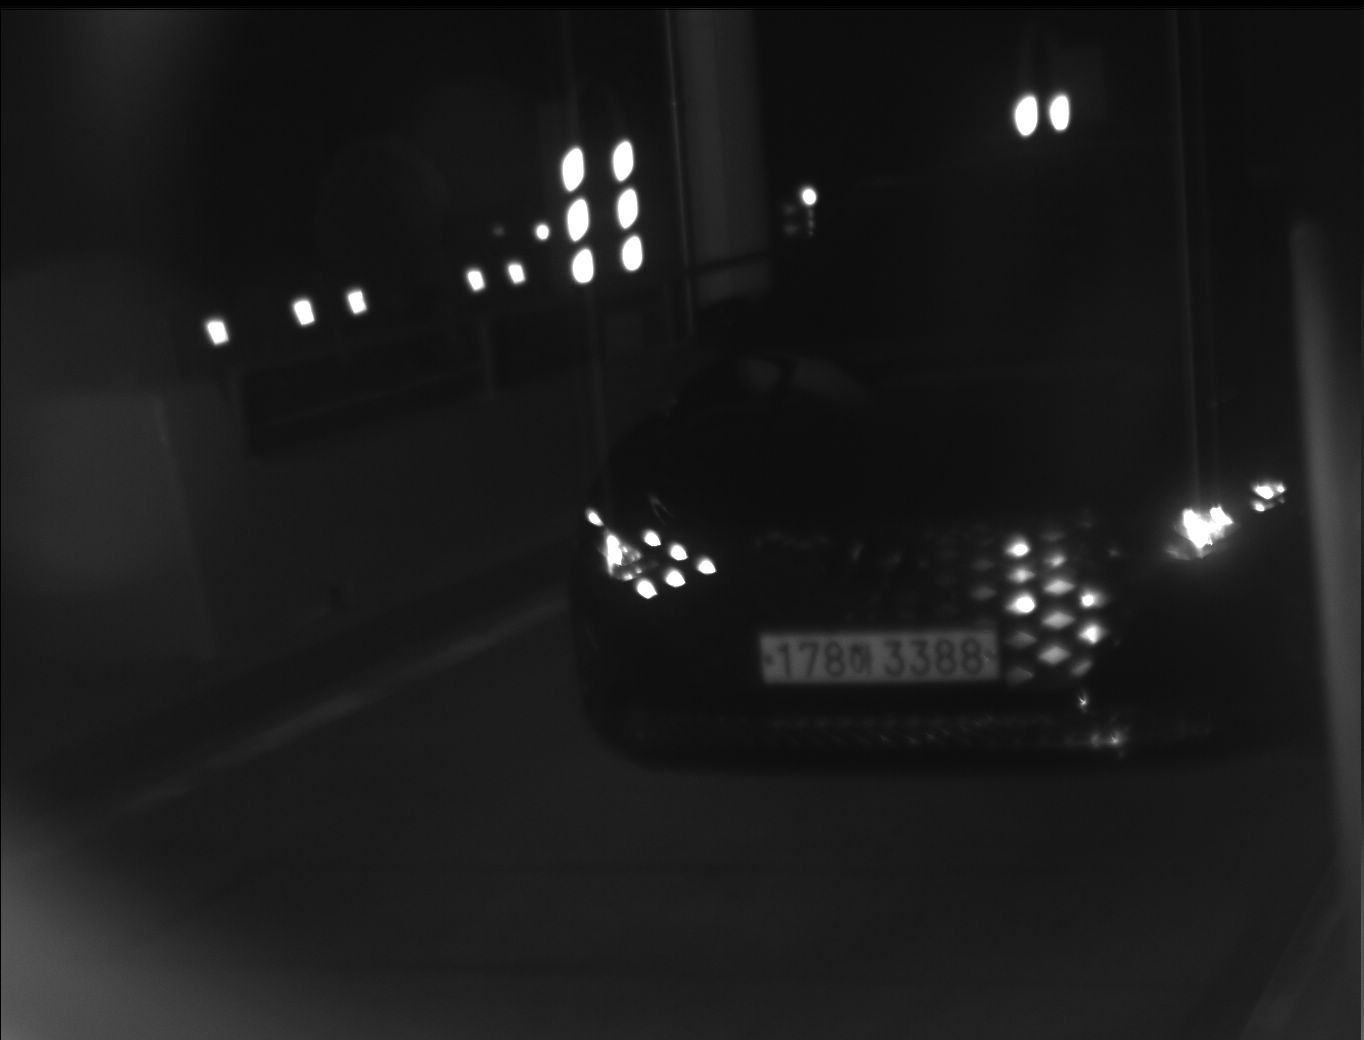car: (559, 124, 1302, 767)
plate: (752, 626, 1002, 687)
